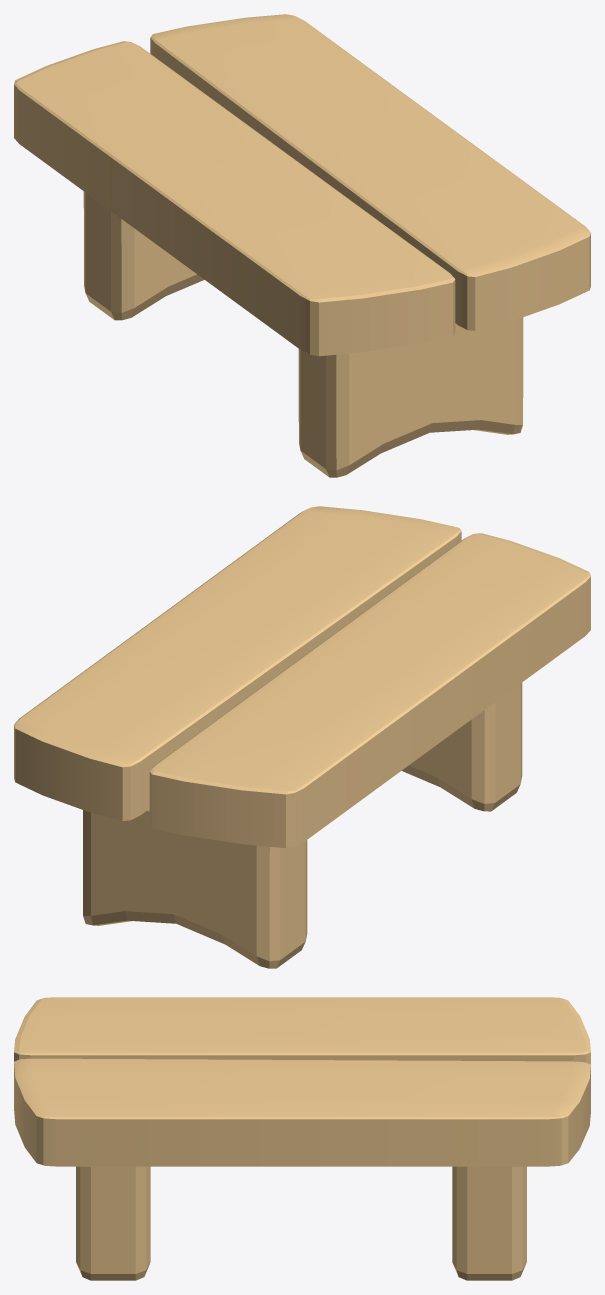
The model's file is stool.glb.
The picture shows the model from 3 angles, top to bottom: view 1: azimuth 30°, elevation 25°; view 2: azimuth 150°, elevation 25°; view 3: azimuth 270°, elevation 25°; orthographic projection. The views are drawn at different scales.
Visible parts, largest first — view 1: stool; view 2: stool; view 3: stool.
Part boxes in pixels (x1,y1,x2,y2): stool: [14, 14, 590, 477]; stool: [14, 506, 590, 968]; stool: [14, 997, 590, 1280].
Bounding box in the file's own units: 0.297 × 0.2095 × 0.5946.
